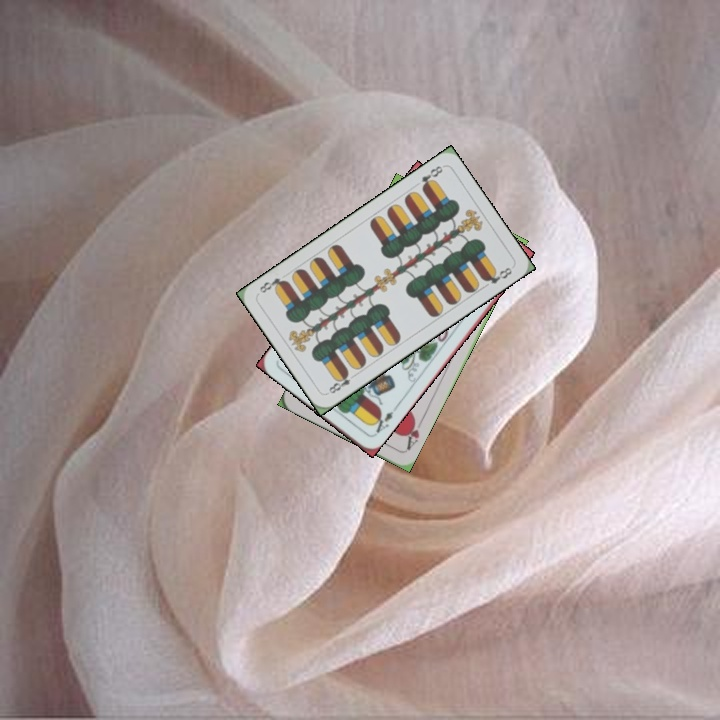E8: (323, 368, 360, 397), (417, 162, 445, 193)
EA: (367, 403, 399, 438)
HA: (401, 414, 426, 453)
